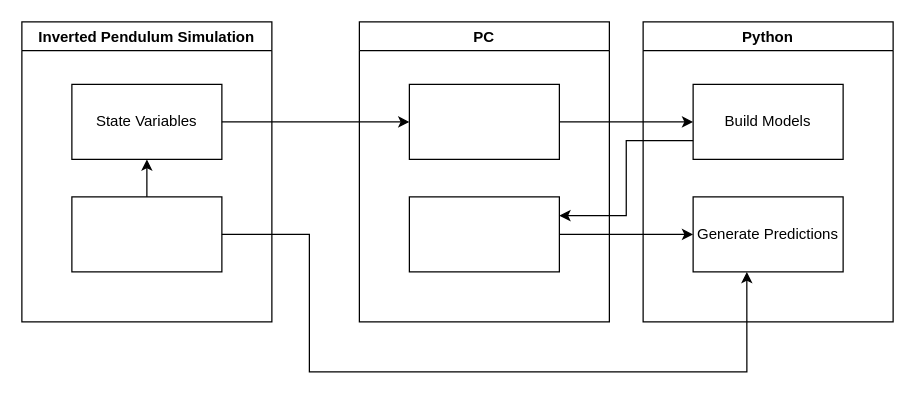
Image size: 915x404. Some labels were removed from this diagram. The centre of each missing label's shape, as x and y in pixels:
Controller: [146,234]
Dataset: [483,121]
Model Config: [483,234]
